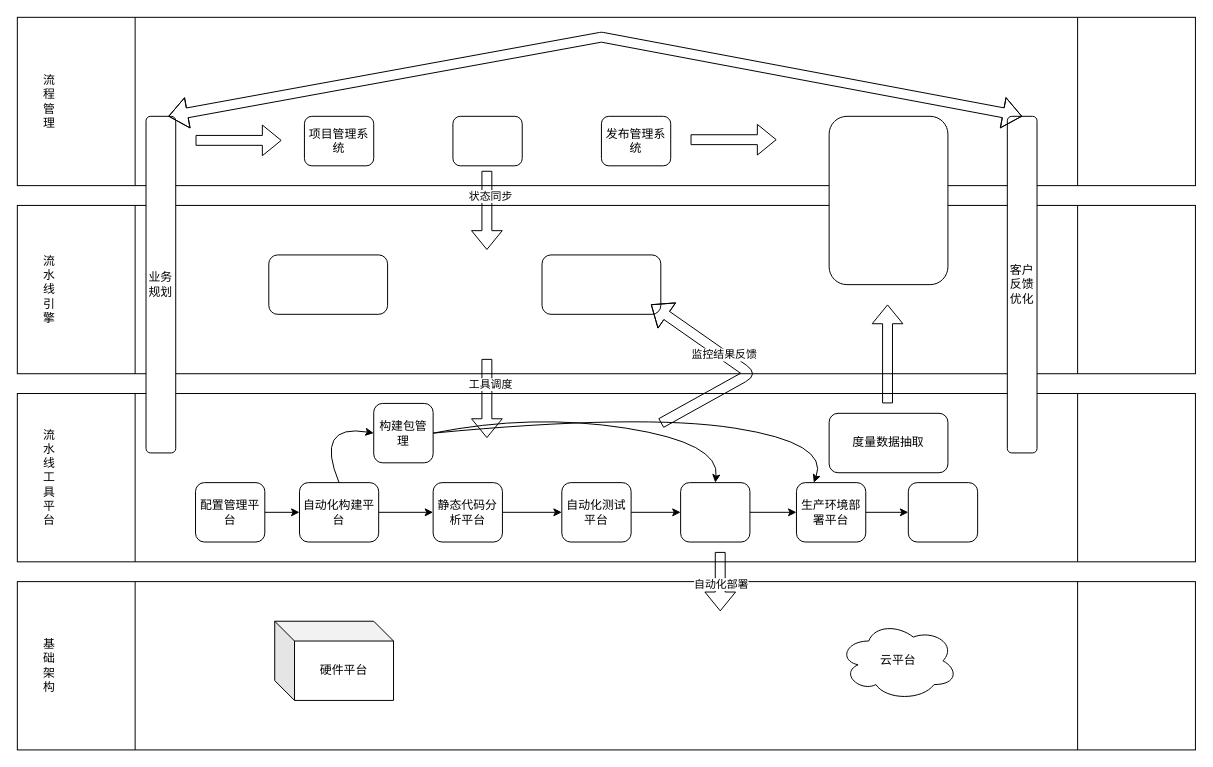
This 1213x767 diagram has some shape labels left out. The shapes that lost their labels are listed below. From the top down, each one's centre as x and y in pixels, then its label:
At point 487,140: "测试管理系统".
At point 888,200: "DevOps度量平台".
At point 328,284: "开发测试持续交互门户".
At point 601,284: "应用持续发布门户".
At point 715,512: "自动化部署平台".
At point 942,512: "生产环境运行监控平台".
